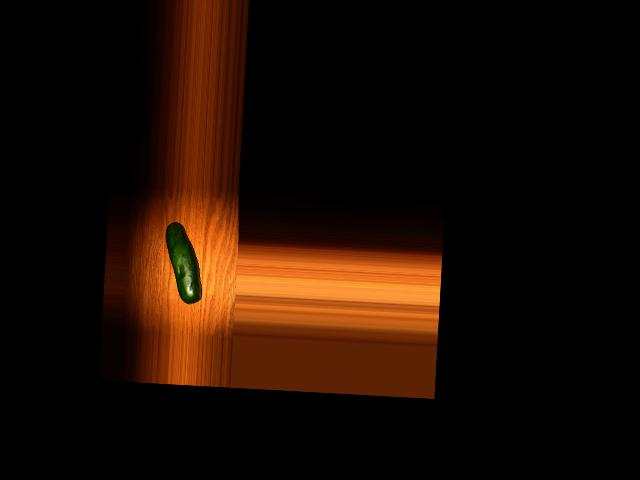cucumber: (162, 221, 205, 303)
